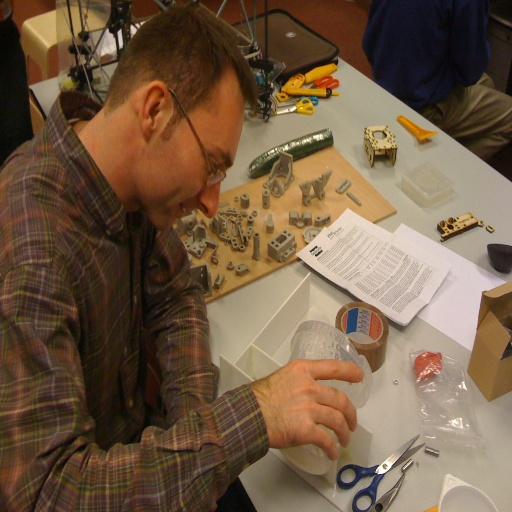hand: (267, 346, 373, 451)
